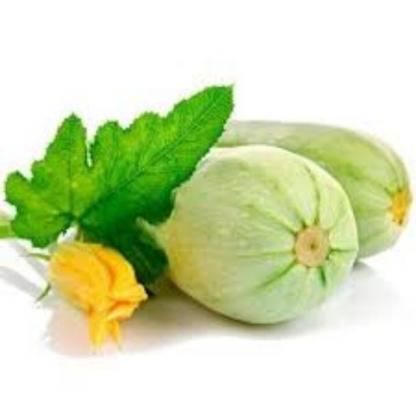vegetable marrow: (101, 113, 366, 332), (190, 90, 416, 256)
